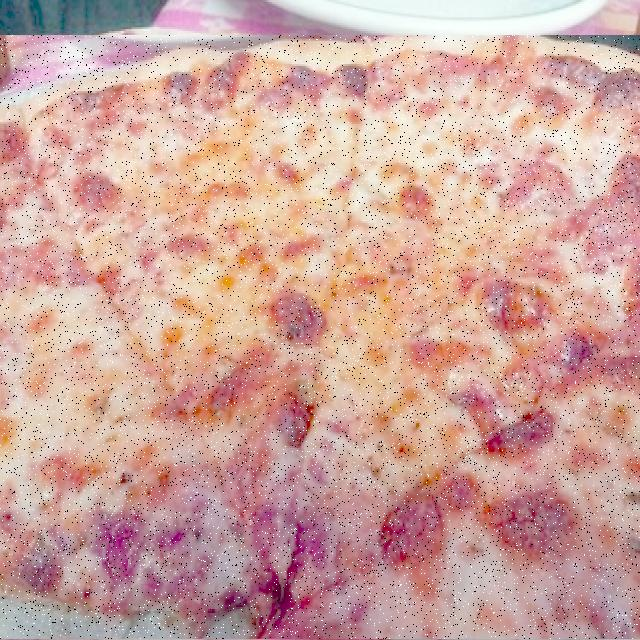Pizza: (0, 35, 640, 640)
